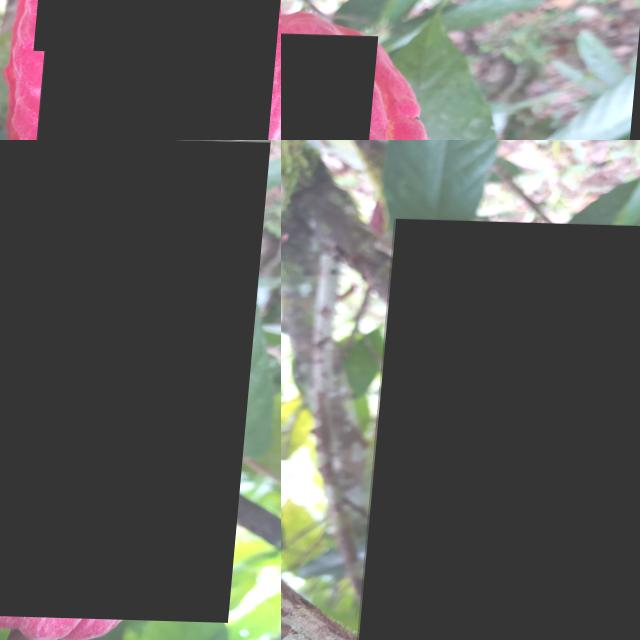Fitoftora: (39, 0, 281, 140), (281, 31, 380, 140)
Sana: (0, 140, 271, 619), (364, 217, 640, 640), (40, 0, 83, 50)
